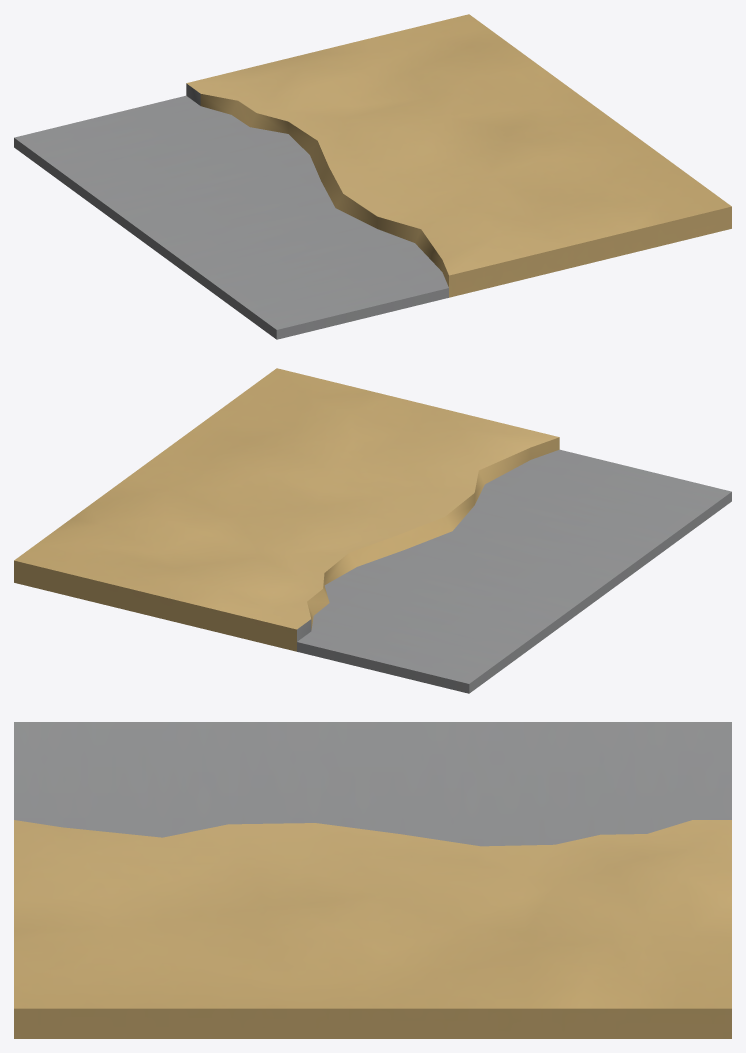
Rendered from ground_road_2_R.dae.
3 views of the same model, one above another, from view 1: azimuth 30°, elevation 25°; view 2: azimuth 150°, elevation 25°; view 3: azimuth 270°, elevation 25° (orthographic). The views are drawn at different scales.
Parts seen in each view (by area): view 1: ground_road_2_R; view 2: ground_road_2_R; view 3: ground_road_2_R.
Boxes of the visible parts, x1=… form: ground_road_2_R: x1=14, y1=14, x2=731, y2=339; ground_road_2_R: x1=14, y1=368, x2=731, y2=693; ground_road_2_R: x1=14, y1=722, x2=731, y2=1038.
Bounding box in the file's own units: 2 × 2 × 0.1193.
